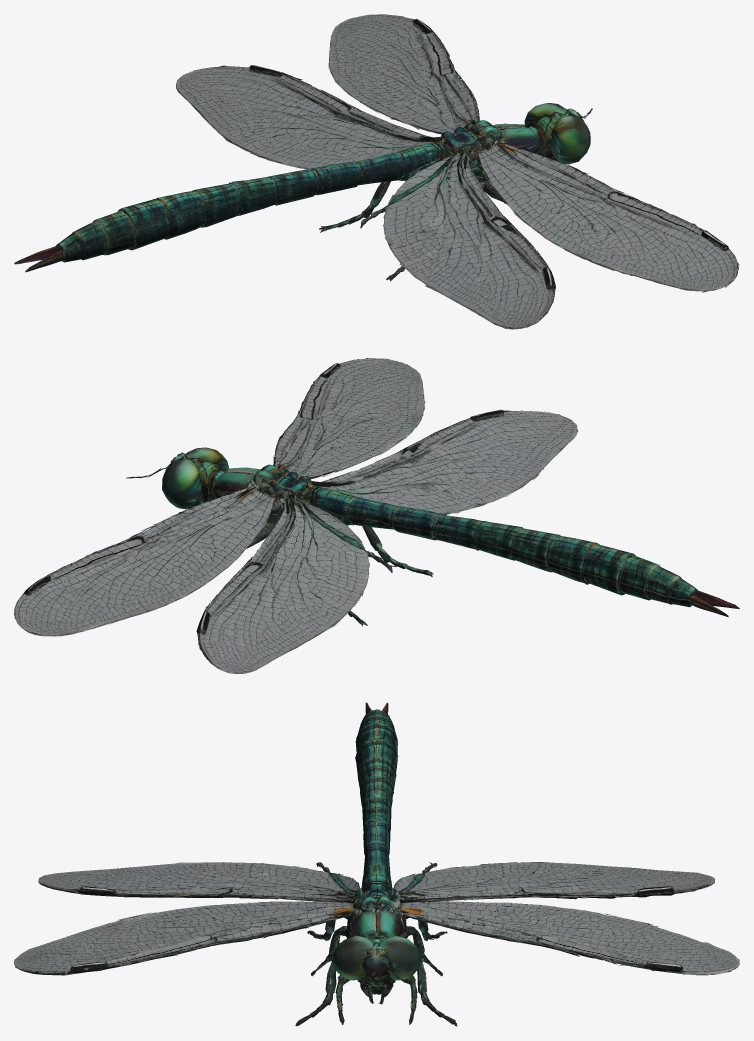
File: meganeura.glb
The picture shows the model from 3 angles, top to bottom: view 1: azimuth 30°, elevation 25°; view 2: azimuth 150°, elevation 25°; view 3: azimuth 270°, elevation 25°; orthographic projection.
Visible parts, largest first — view 1: Mesh_0; view 2: Mesh_0; view 3: Mesh_0.
Part boxes in pixels (bbox=[...]): Mesh_0: bbox=[14, 14, 739, 329]; Mesh_0: bbox=[14, 358, 739, 673]; Mesh_0: bbox=[14, 702, 739, 1026].
Size of the model in its own units: 0.9253 by 0.1606 by 1.
1 material, 1 textured.
